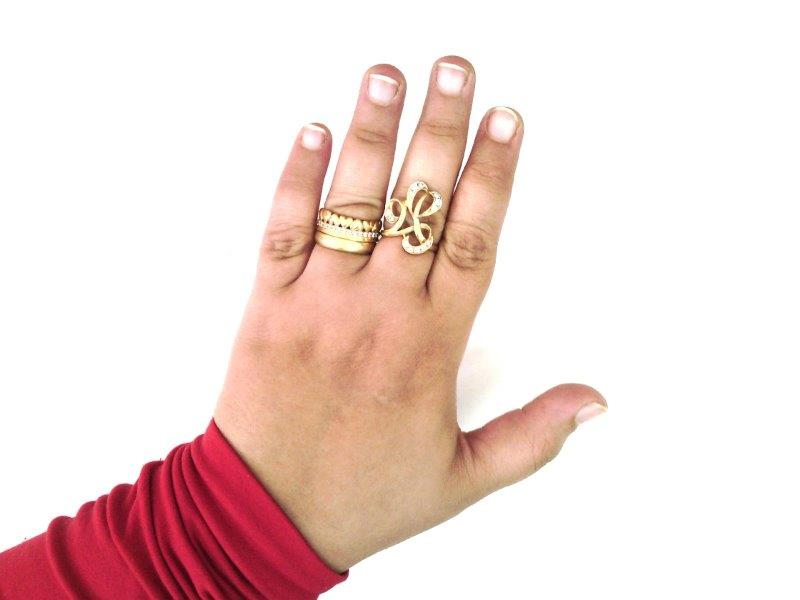hand: (222, 57, 610, 514)
